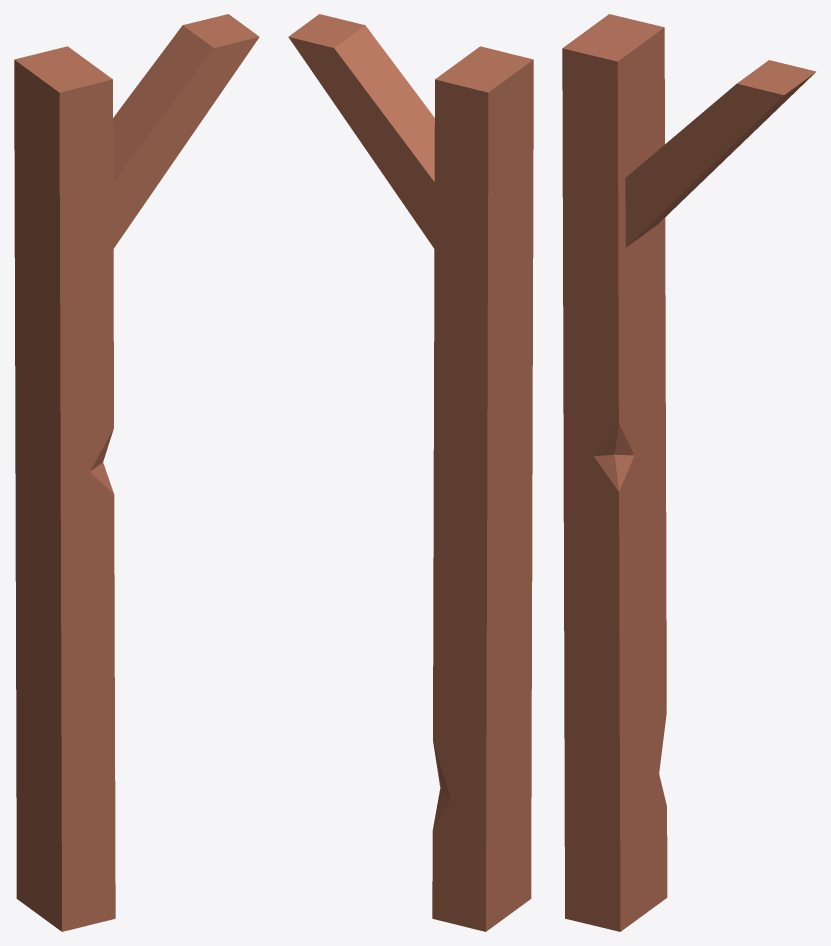
File: wood pole.fbx
The picture shows the model from 3 angles, left to right: view 1: azimuth 30°, elevation 25°; view 2: azimuth 150°, elevation 25°; view 3: azimuth 330°, elevation 25°; orthographic projection. The views are drawn at different scales.
Visible parts, largest first — view 1: polySurface117; view 2: polySurface117; view 3: polySurface117.
Part boxes in pixels (bbox=[...]): polySurface117: bbox=[14, 14, 259, 931]; polySurface117: bbox=[288, 14, 533, 931]; polySurface117: bbox=[562, 14, 816, 931].
Size of the model in its own units: 0.7748 by 3 by 0.2932.
